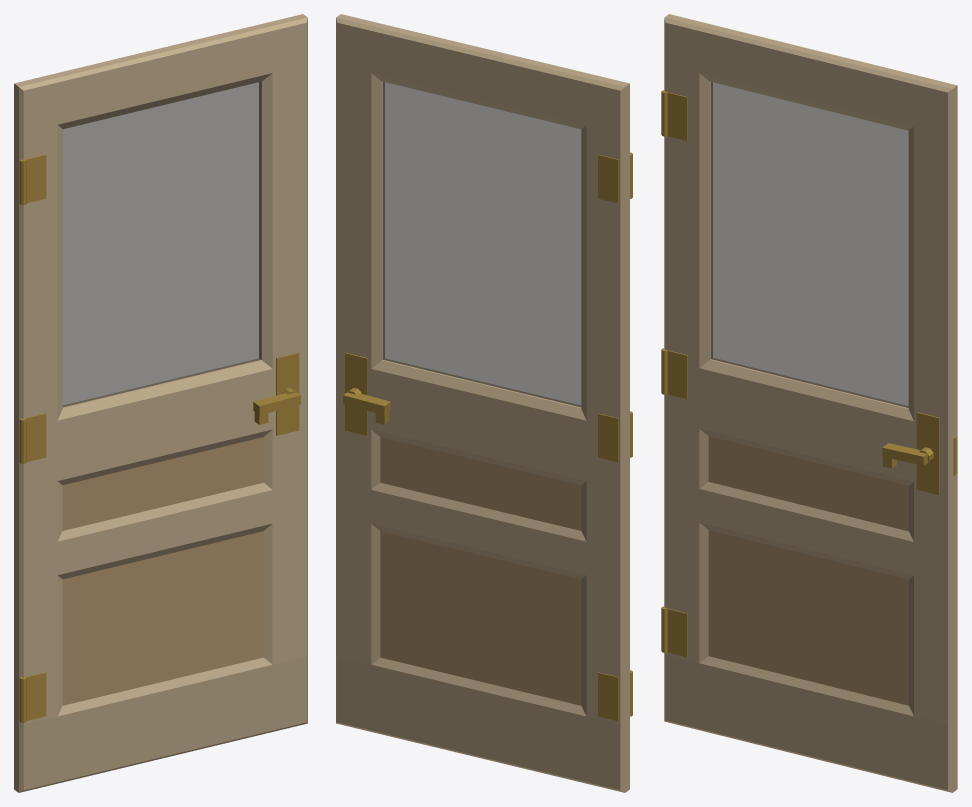
File: interior-door-leaf-a02f28.glb
3 views of the same model, side by side, from view 1: azimuth 30°, elevation 25°; view 2: azimuth 150°, elevation 25°; view 3: azimuth 330°, elevation 25° (orthographic).
Visible parts, largest first — view 1: leaf, pane; view 2: leaf, pane; view 3: leaf, pane.
Part boxes in pixels (x1,y1,x2,y2): leaf: [14, 14, 307, 792]; pane: [63, 82, 260, 407]; leaf: [336, 14, 632, 792]; pane: [383, 82, 581, 407]; leaf: [661, 14, 957, 792]; pane: [711, 82, 908, 407].
Size of the model in its own units: 0.9032 by 2.1 by 0.145.
